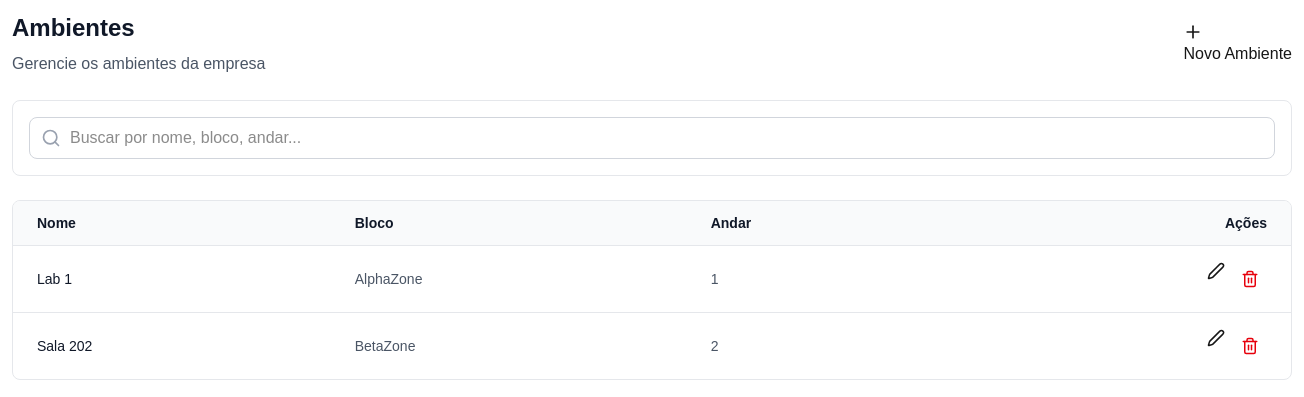
Test: AmbientesList › filtra por bloco
The width and height of the screenshot is (1304, 397).
Expected: the text "Lab 1" is shown, [13, 246, 331, 312]
Type "alphazone" into the field with placeholder "Buscar por nome, bloco, andar..." at (652, 138), box [29, 117, 1275, 159]
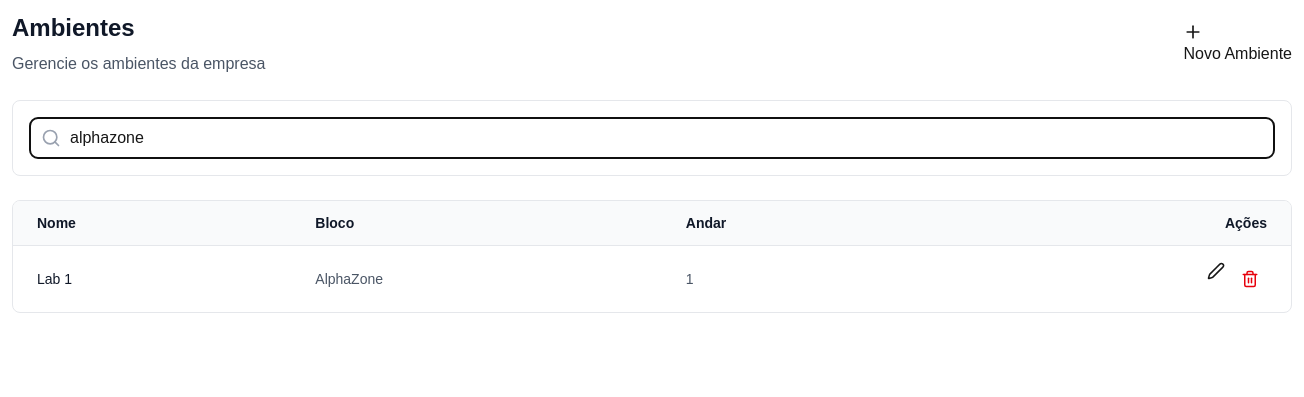
Expected: the text "Lab 1" is shown, [13, 246, 291, 312]
Result: the text "Sala 202" is gone
